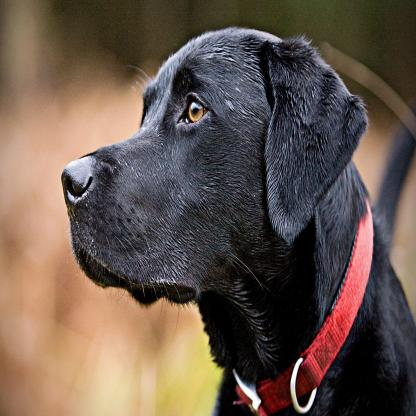Labarador Retriever: (58, 35, 416, 415)
